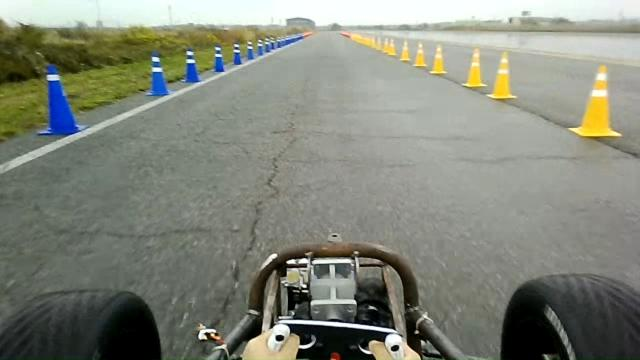blue cone: (36, 63, 88, 136), (145, 51, 171, 96), (180, 47, 202, 83), (212, 43, 225, 72), (232, 42, 242, 65), (246, 40, 255, 60), (257, 39, 264, 56)
yellow cone: (568, 64, 622, 138), (487, 51, 517, 100), (461, 47, 487, 88), (430, 43, 447, 74), (413, 42, 427, 66), (400, 40, 410, 62), (386, 38, 396, 56)
